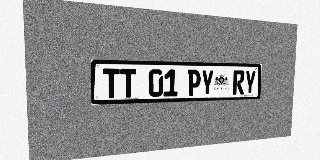0: (148, 69, 163, 97)
1: (163, 69, 178, 97)
P: (187, 69, 201, 96)
R: (232, 70, 245, 95)
T: (103, 68, 120, 98), (120, 69, 136, 98)
Y: (201, 70, 214, 96), (244, 70, 256, 94)
